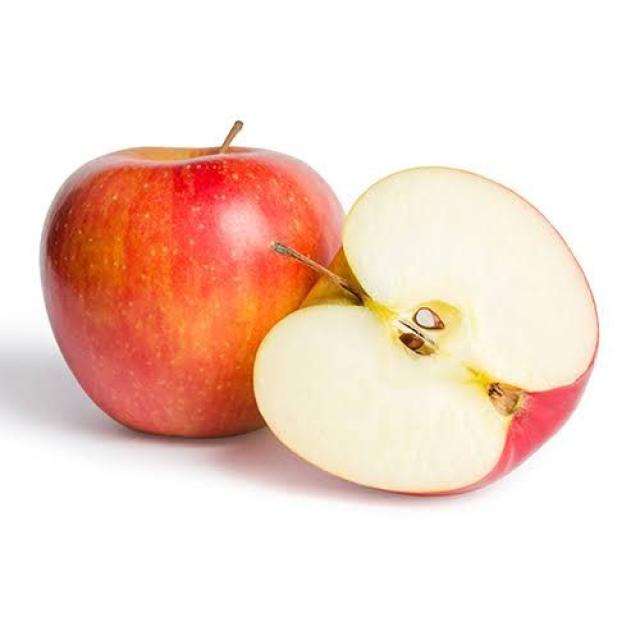apple: (255, 168, 597, 494), (41, 123, 343, 436)
